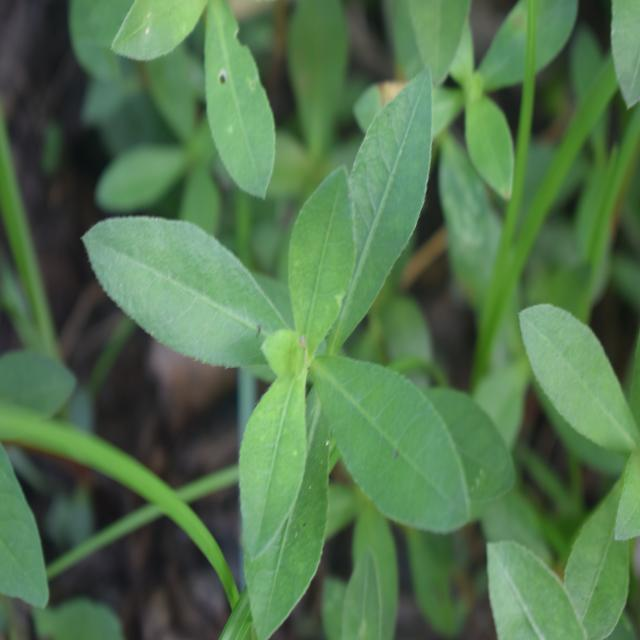Alligatorweed: (88, 96, 490, 588)
